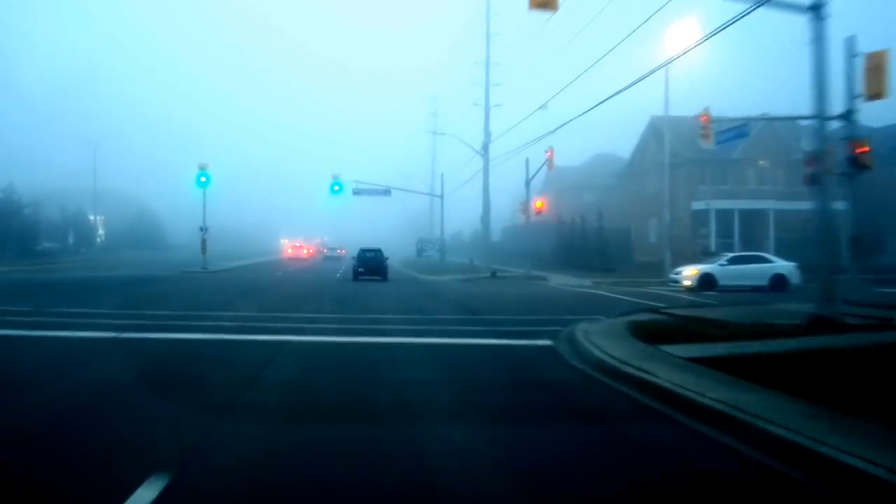car: (664, 249, 803, 295), (349, 246, 390, 282), (285, 242, 308, 262), (321, 245, 343, 262)
